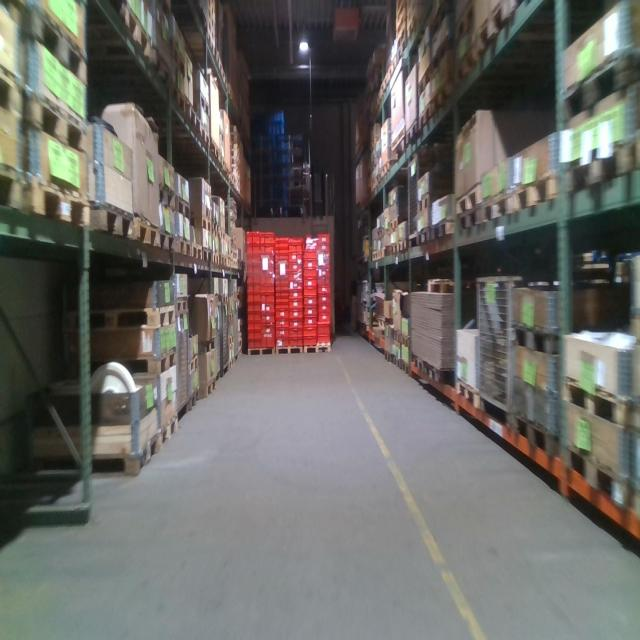pallet: (6, 426, 164, 473), (24, 4, 88, 88), (24, 83, 85, 159), (24, 175, 89, 236), (58, 344, 177, 377), (565, 373, 623, 430), (564, 60, 614, 125), (563, 445, 618, 501), (511, 409, 559, 461), (68, 304, 176, 326), (89, 197, 135, 248), (564, 149, 614, 195), (516, 167, 561, 215), (479, 2, 509, 56), (510, 321, 559, 353), (0, 63, 25, 125), (124, 1, 150, 57), (482, 188, 512, 231), (0, 163, 25, 214), (432, 68, 453, 122), (454, 179, 484, 214), (431, 34, 456, 76), (133, 213, 159, 253), (455, 50, 483, 87), (453, 4, 478, 43), (459, 202, 486, 237), (416, 190, 453, 213), (424, 359, 456, 385), (432, 214, 456, 248), (455, 379, 478, 413), (150, 46, 169, 85), (156, 414, 179, 446), (196, 372, 219, 403), (170, 227, 191, 260), (418, 62, 434, 97), (191, 335, 217, 356), (158, 179, 175, 210), (420, 100, 434, 136), (156, 226, 175, 252), (171, 80, 186, 112), (406, 118, 418, 156), (169, 295, 189, 316), (415, 227, 432, 251), (246, 345, 273, 360), (274, 345, 305, 358), (184, 351, 200, 376), (190, 211, 211, 230), (188, 103, 201, 132), (305, 343, 331, 357), (388, 216, 408, 233), (175, 197, 192, 217), (395, 136, 408, 162), (186, 387, 199, 412), (198, 90, 210, 115), (381, 158, 395, 179), (381, 68, 390, 99), (200, 246, 212, 268), (412, 354, 424, 375), (190, 243, 201, 265), (209, 247, 219, 269), (401, 360, 412, 379), (201, 127, 210, 150), (225, 356, 236, 374), (389, 53, 396, 80), (211, 138, 220, 159), (209, 292, 220, 309), (207, 32, 215, 55), (216, 51, 223, 76), (398, 239, 408, 255), (210, 219, 220, 234), (217, 294, 229, 306), (391, 241, 398, 261), (378, 246, 386, 263), (226, 335, 235, 349), (371, 248, 379, 262), (230, 259, 239, 271), (393, 330, 401, 343), (219, 229, 227, 241), (220, 254, 227, 267), (236, 337, 243, 350), (392, 359, 401, 369), (402, 332, 408, 346), (230, 249, 238, 258), (238, 347, 244, 359), (227, 312, 234, 322), (227, 259, 231, 270)
small_load_carrier: (260, 323, 275, 349), (259, 232, 275, 246), (245, 231, 261, 244), (290, 236, 303, 251), (261, 312, 275, 324), (247, 301, 261, 313), (246, 254, 261, 265), (246, 265, 261, 276), (246, 339, 261, 350), (303, 326, 319, 336), (259, 246, 275, 256), (259, 265, 275, 275), (318, 253, 330, 266), (317, 335, 332, 345), (303, 337, 318, 347), (260, 293, 275, 303), (246, 244, 261, 254), (288, 261, 304, 270), (304, 297, 317, 308), (290, 298, 303, 309), (289, 337, 302, 348), (261, 254, 274, 265), (247, 283, 260, 294), (303, 269, 317, 279), (304, 250, 318, 260), (275, 320, 289, 330), (304, 308, 319, 317), (316, 234, 331, 243), (260, 284, 275, 293), (247, 321, 262, 330), (318, 324, 331, 334), (276, 310, 289, 320), (290, 251, 304, 260), (275, 330, 289, 339), (261, 275, 275, 284), (261, 303, 275, 312), (247, 330, 261, 339), (319, 266, 330, 277), (305, 287, 317, 297), (290, 280, 302, 290), (318, 243, 330, 253), (247, 313, 262, 321), (304, 317, 317, 326), (304, 260, 317, 269), (289, 271, 302, 280), (290, 309, 303, 318), (289, 328, 302, 337), (303, 279, 317, 287), (276, 339, 290, 347), (246, 275, 260, 283), (319, 295, 331, 304), (290, 318, 302, 327), (274, 247, 289, 254), (290, 290, 303, 298), (319, 277, 330, 286), (319, 304, 330, 313), (319, 315, 330, 324), (247, 294, 261, 301), (276, 287, 289, 294), (275, 266, 288, 273), (319, 286, 330, 294), (274, 242, 289, 247), (274, 237, 289, 242), (277, 299, 289, 305), (275, 305, 289, 310), (276, 294, 289, 299), (276, 279, 289, 284), (275, 261, 288, 266), (275, 254, 289, 258), (274, 273, 288, 277), (276, 284, 288, 288)
stillage: (472, 267, 517, 434), (407, 157, 420, 254)
